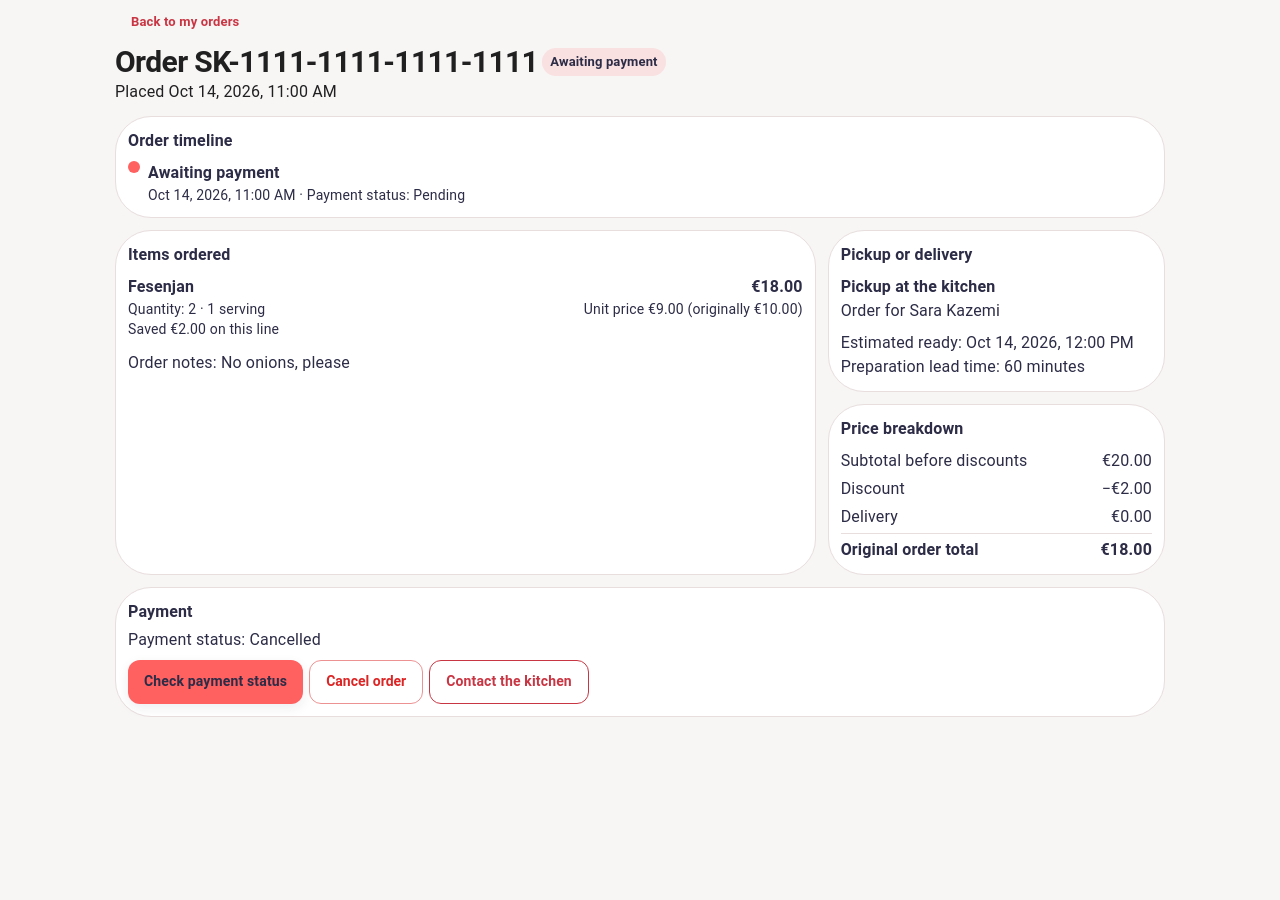
Test: customer order detail › gates cancellation on provider state and offers contact/new-order recovery
The image size is (1280, 900).
Click the button "Cancel order": (366, 682) [309, 660, 423, 704]
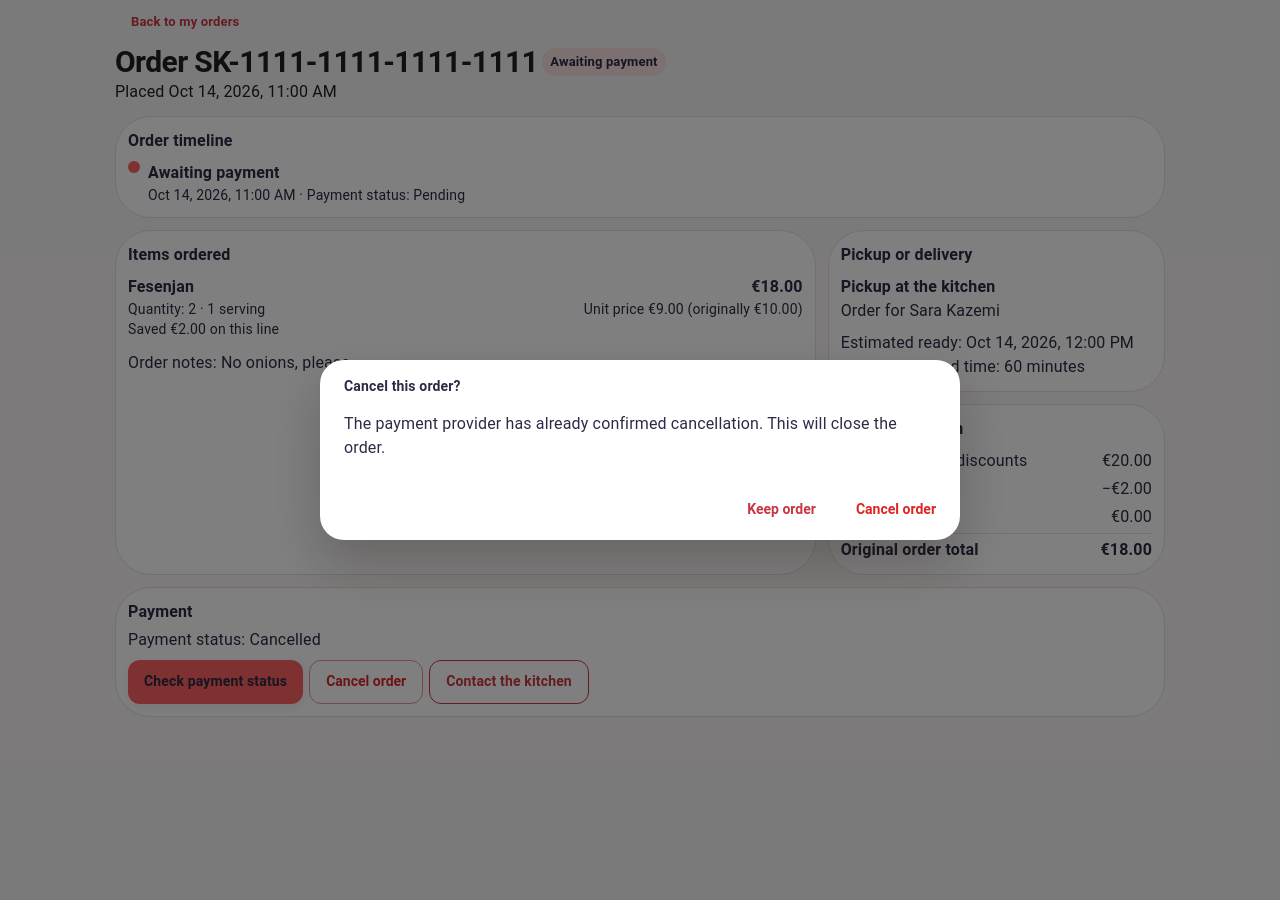
Expected: the dialog "Cancel this order?" is shown, [320, 360, 960, 540]
